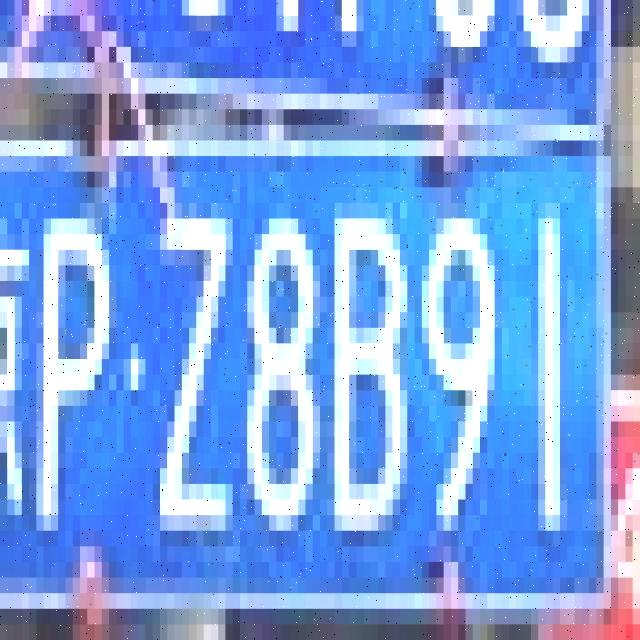licenseplate: (0, 125, 628, 637)
